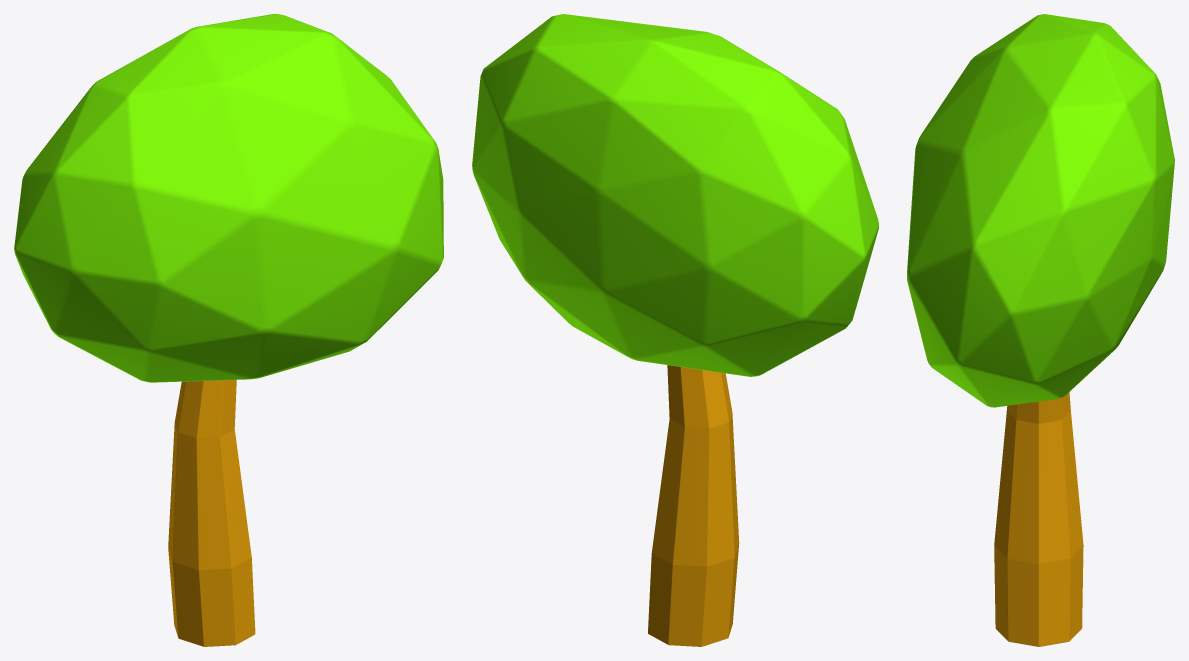
Rendered from Green Tree.fbx.
3 renders of one model, left to right at view 1: azimuth 30°, elevation 25°; view 2: azimuth 150°, elevation 25°; view 3: azimuth 270°, elevation 25°, orthographic. The views are drawn at different scales.
Visible parts, largest first — view 1: pPlatonic2, pCylinder3; view 2: pPlatonic2, pCylinder3; view 3: pPlatonic2, pCylinder3.
Boxes of the visible parts, x1,y1,x2,y2 form: pPlatonic2: (14, 14, 443, 382); pCylinder3: (168, 380, 255, 646); pPlatonic2: (472, 14, 878, 376); pCylinder3: (648, 365, 739, 646); pPlatonic2: (907, 14, 1174, 407); pCylinder3: (994, 392, 1083, 646).
Size of the model in its own units: 1.78 by 2.49 by 1.01.
